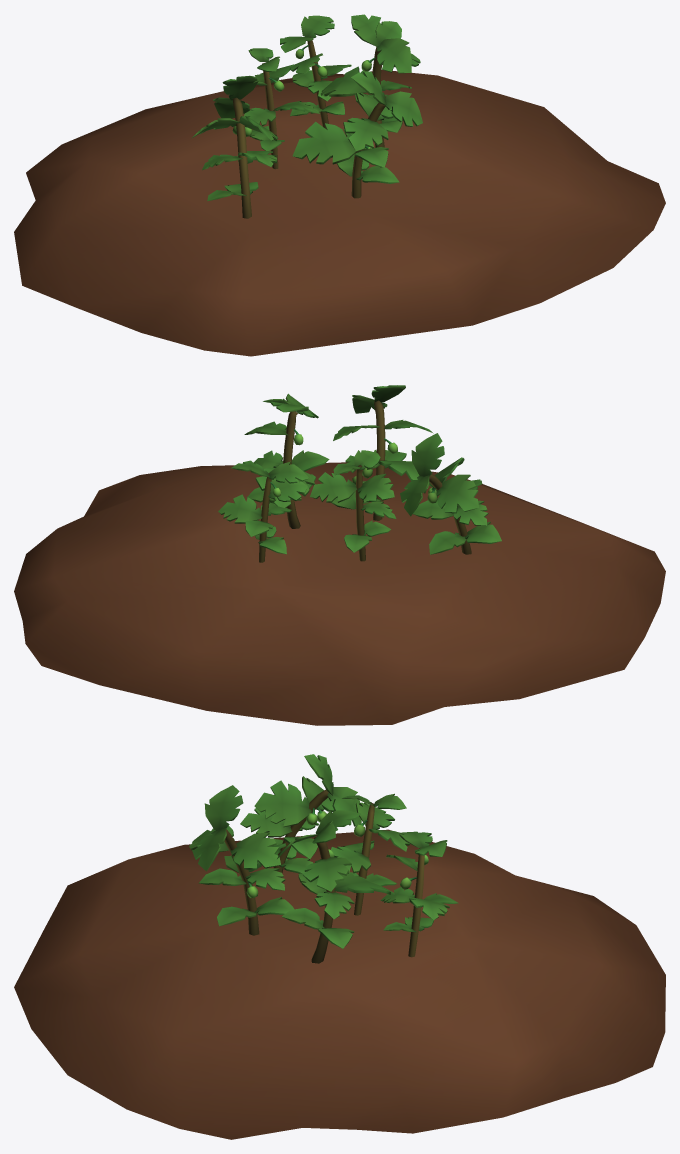
The model's file is SM_PlantSoil_Gooseberry_Lv2.fbx.
The picture shows the model from 3 angles, top to bottom: view 1: azimuth 30°, elevation 25°; view 2: azimuth 150°, elevation 25°; view 3: azimuth 270°, elevation 25°; orthographic projection. The views are drawn at different scales.
Visible parts, largest first — view 1: SM_PlantSoil_Gooseberry_Lv2; view 2: SM_PlantSoil_Gooseberry_Lv2; view 3: SM_PlantSoil_Gooseberry_Lv2.
Boxes of the visible parts, x1=… form: SM_PlantSoil_Gooseberry_Lv2: x1=14, y1=14, x2=665, y2=356; SM_PlantSoil_Gooseberry_Lv2: x1=14, y1=385, x2=665, y2=725; SM_PlantSoil_Gooseberry_Lv2: x1=14, y1=754, x2=665, y2=1139.
Bounding box in the file's own units: 118 × 35.66 × 106.
